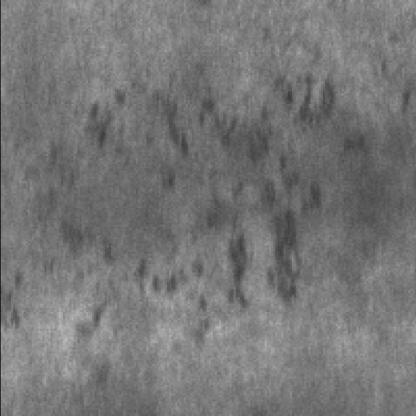rolled-in_scale: (54, 181, 314, 333), (81, 73, 343, 196)
